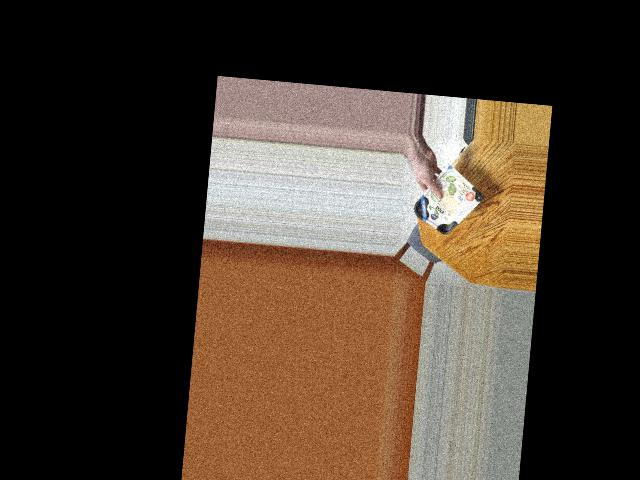cheese: (410, 172, 480, 237)
